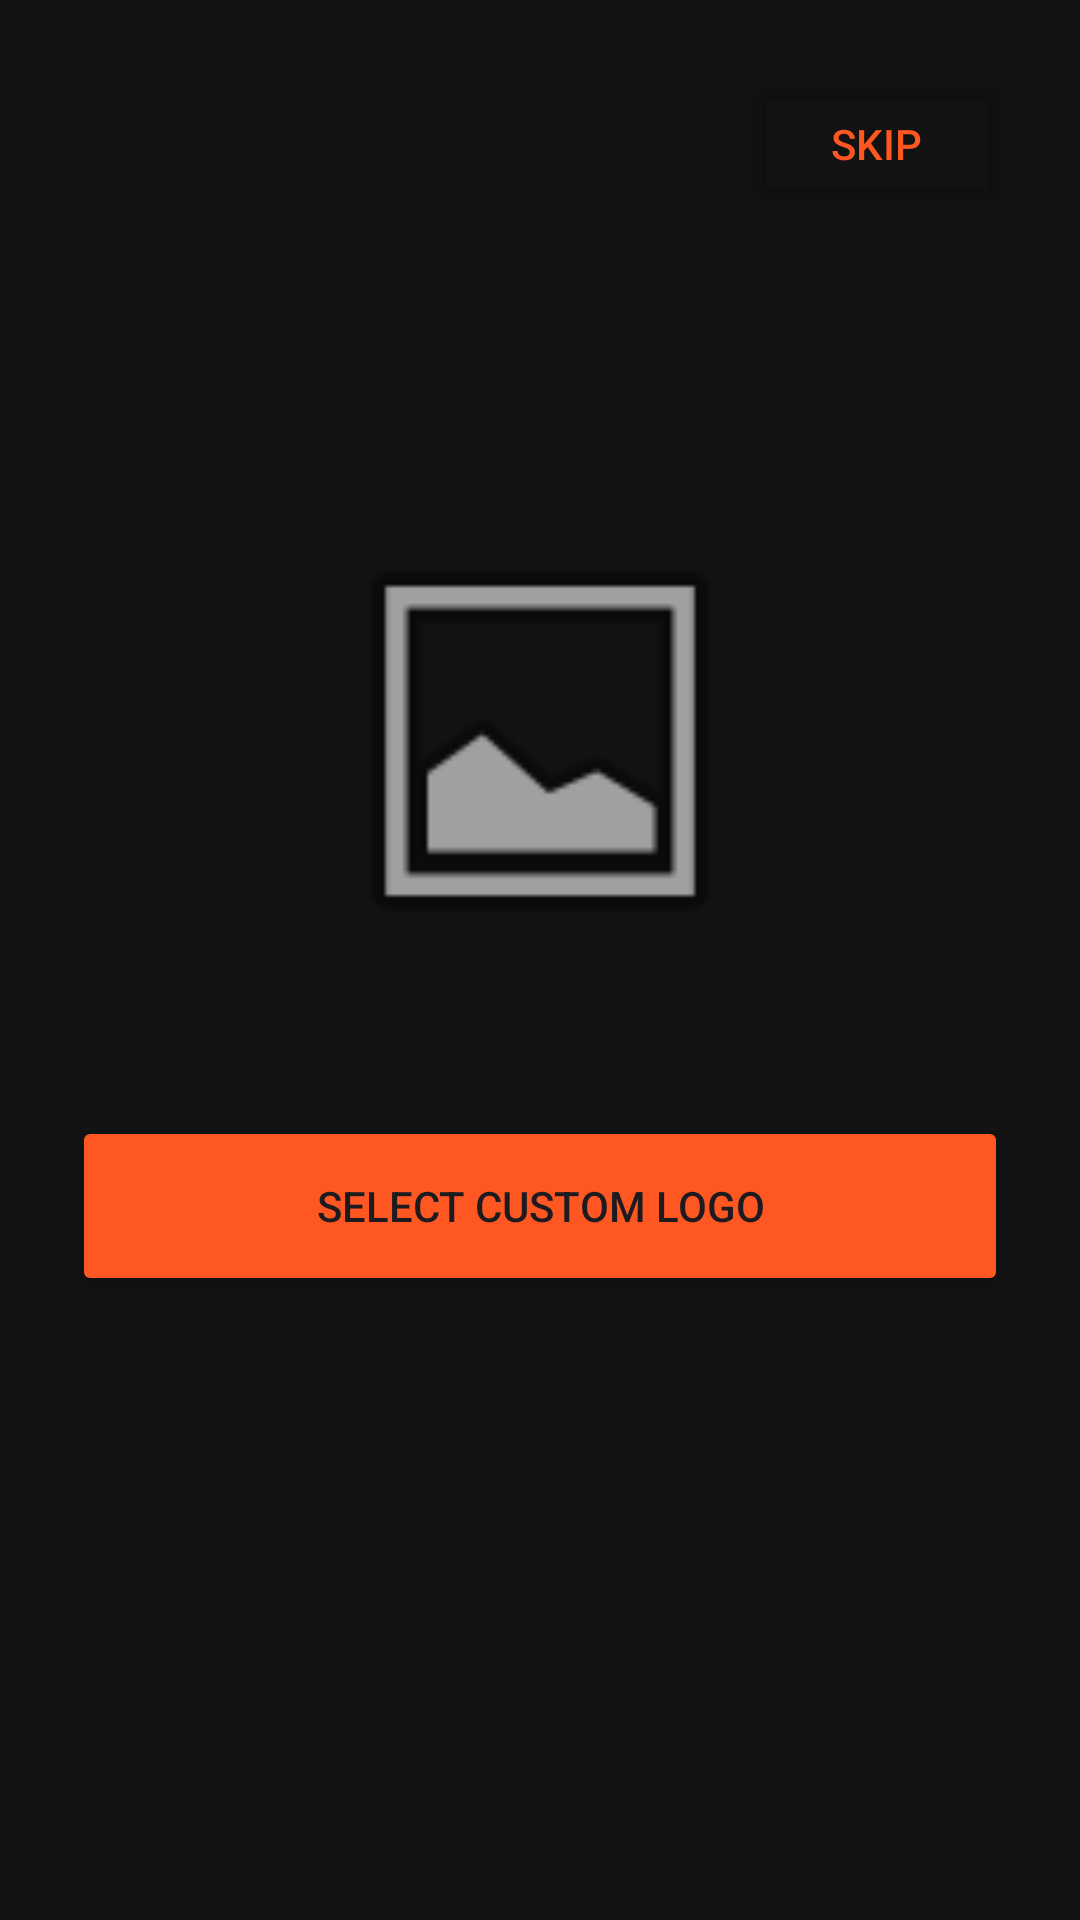

Named icons in this screenshot (1080 x 1920) and their bounding boxes, (x1, y1, x2, y2):
gallery: (384, 585, 696, 897)
